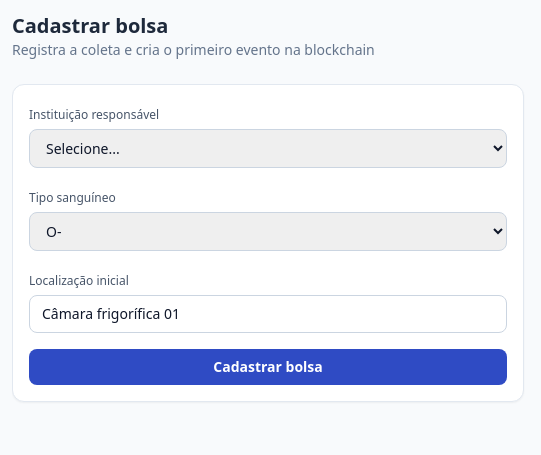
it: CreateBloodBag — campo de instituição responsável › para um ADMIN (sem instituição), exige a seleção explícita antes de enviar
Click the button "Cadastrar bolsa": (268, 367) [29,349,507,385]
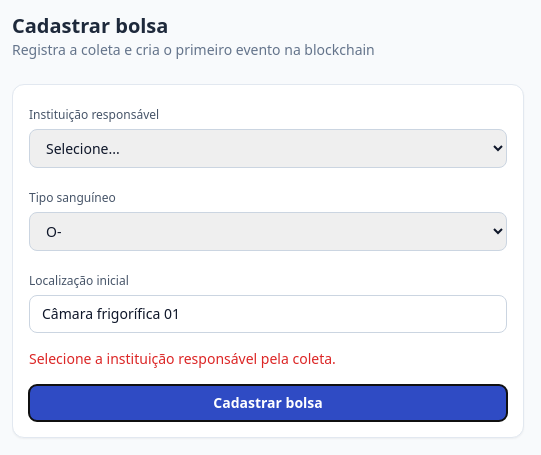
expect the text "Selecione a instituição responsável pela coleta." is shown: met, box [29,349,336,368]
